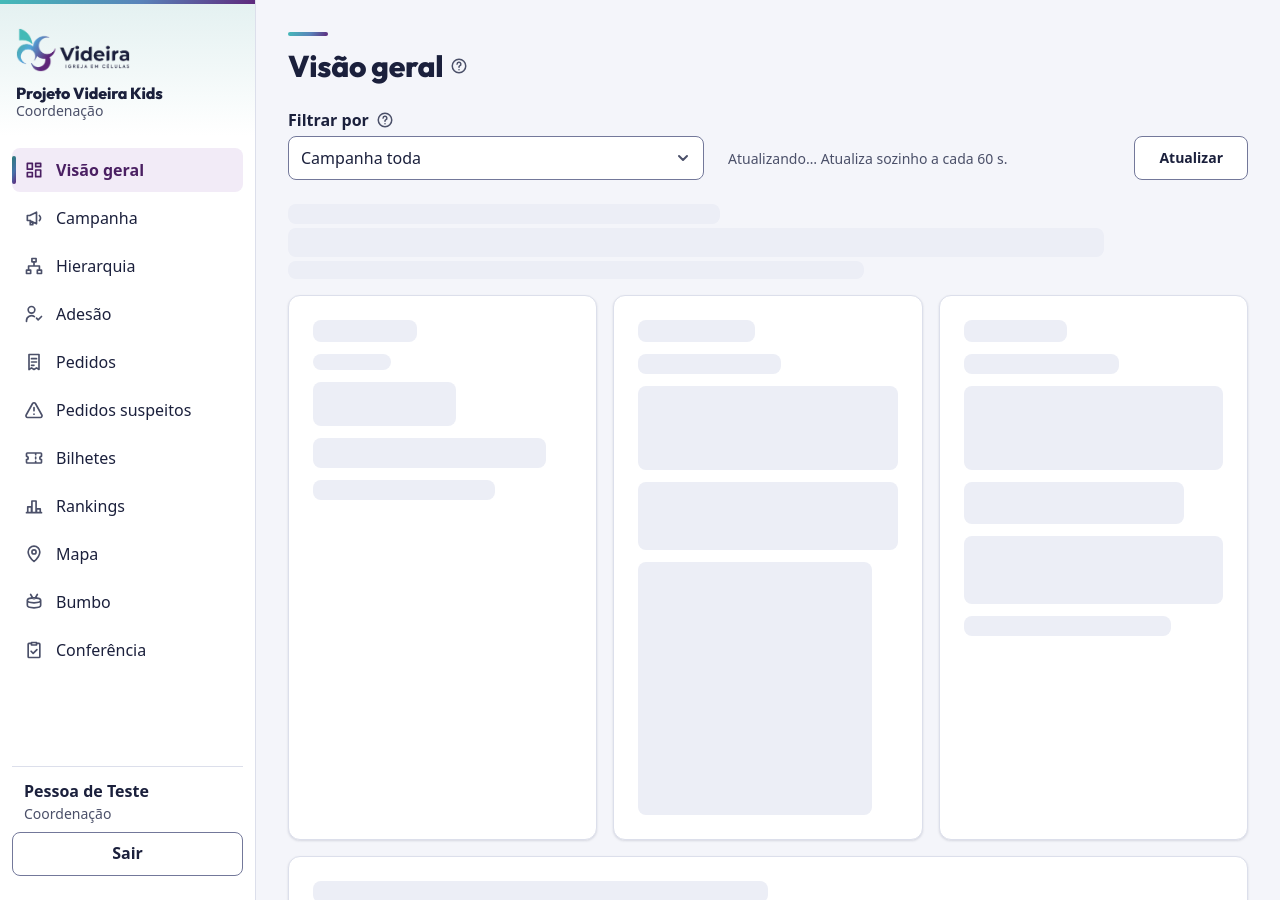
Test case: RIFA-024: menu da coordenação › papel coordenacao: 'Pedidos suspeitos' no menu, logo depois de 'Pedidos', e o link abre a tela
Click the link "Pedidos suspeitos" at (108, 410), box top-left (24, 399), bottom-right (191, 421)
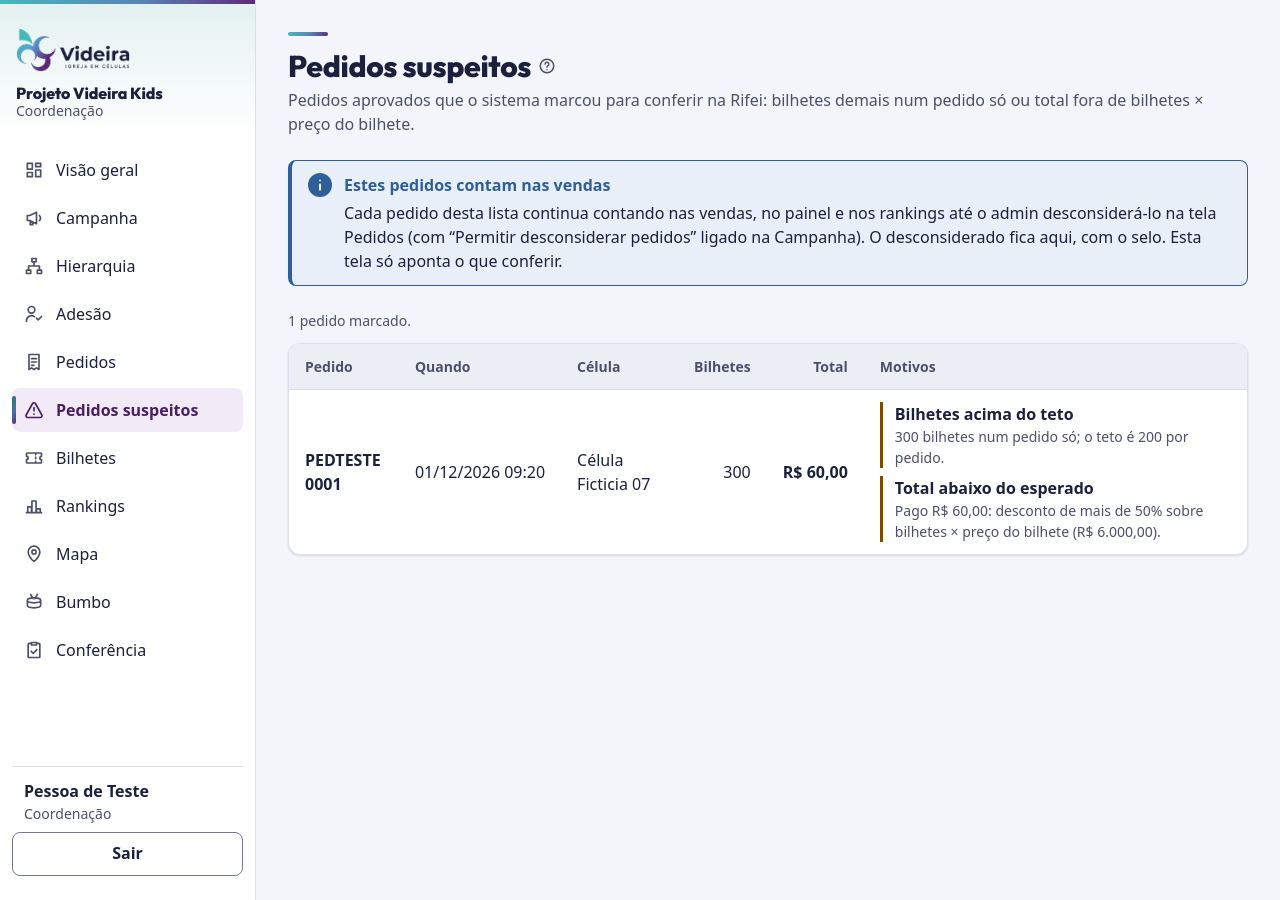
expect the table named "Pedidos suspeitos, o mais recente primeiro" is shown: met, box top-left (289, 344), bottom-right (1247, 554)
